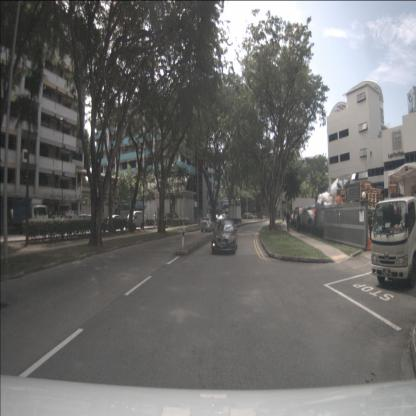cone: (366, 224, 372, 251)
